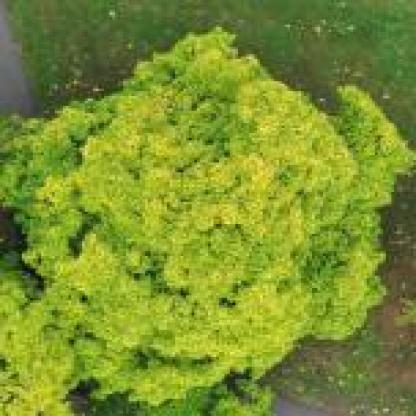Deciduous Tree: (0, 15, 408, 416)
